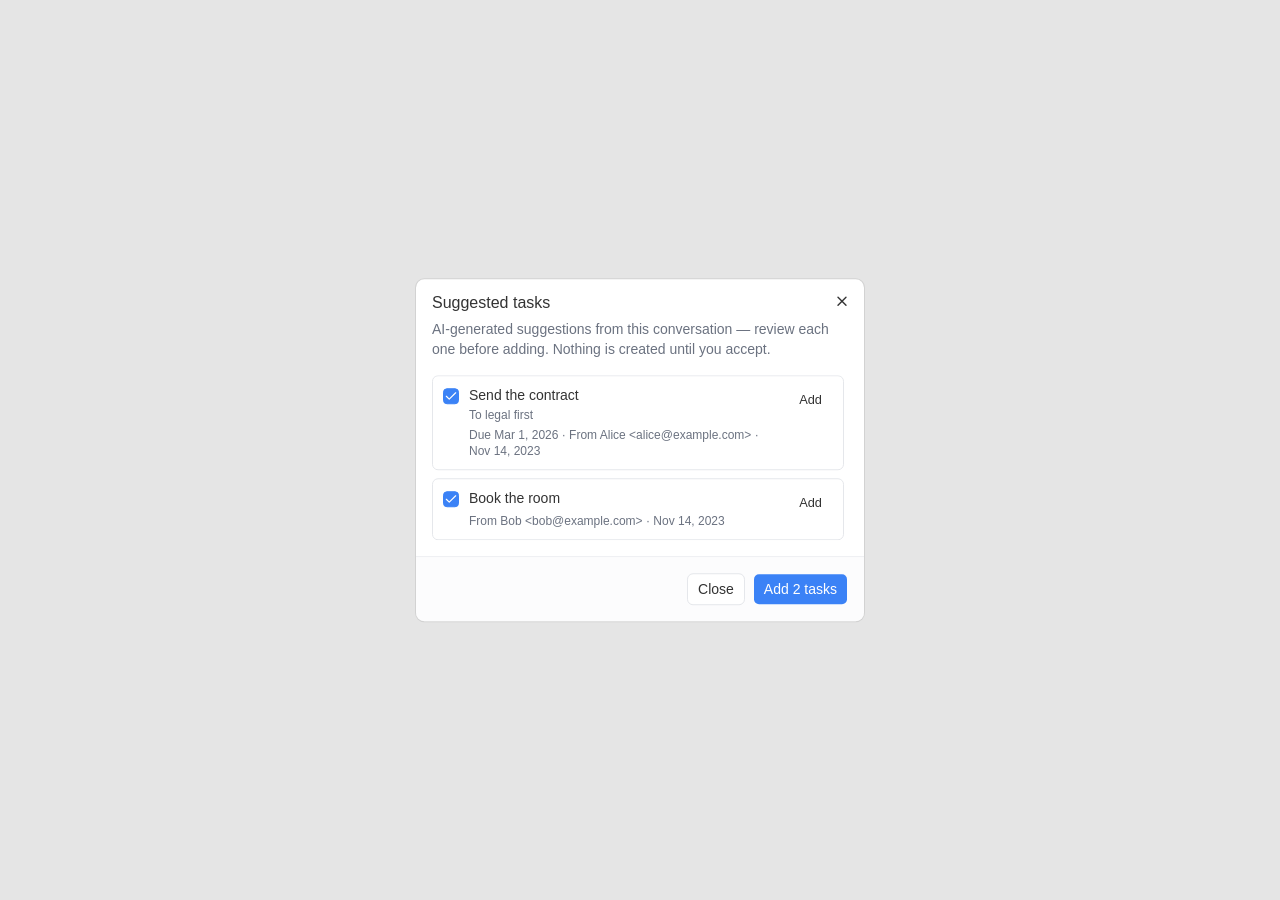
Test: TaskExtractionDialog accept path › marks seam successes as Added without the unavailable toast
The width and height of the screenshot is (1280, 900).
Expected: the text "Send the contract" is shown, [469, 387, 579, 403]
Click the button with test id "task-extraction-accept" at (800, 589), box [753, 573, 848, 605]
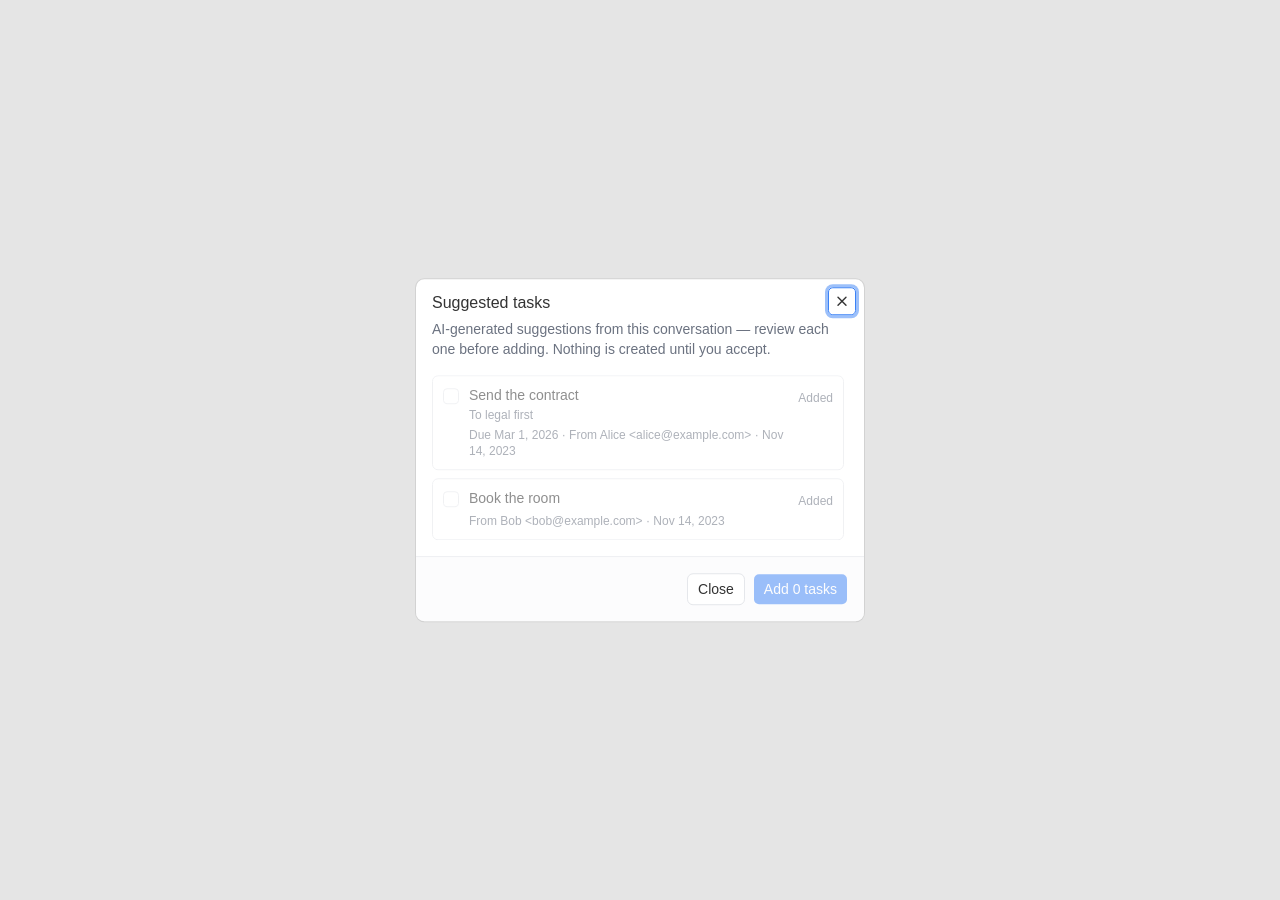
Expected: the text with test id "task-suggestion-state-0" reads "Added", [798, 391, 833, 405]
